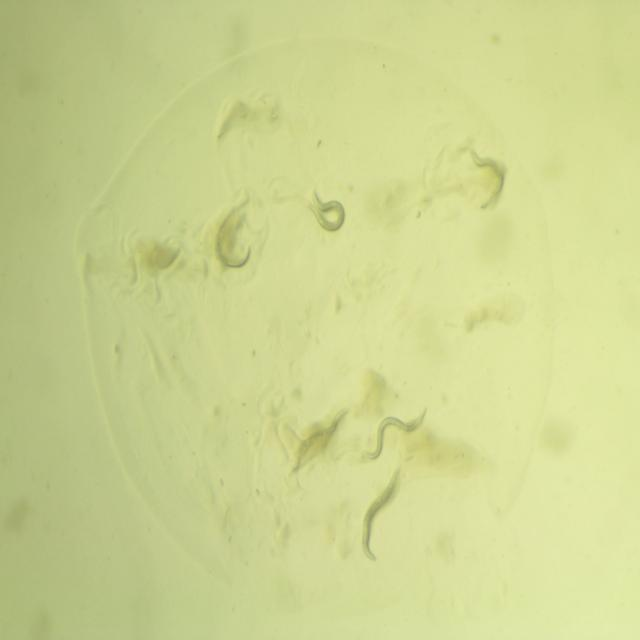worm: (352, 453, 411, 579), (284, 396, 356, 487), (207, 186, 268, 288), (356, 398, 432, 467), (460, 139, 520, 224), (288, 178, 356, 246)
